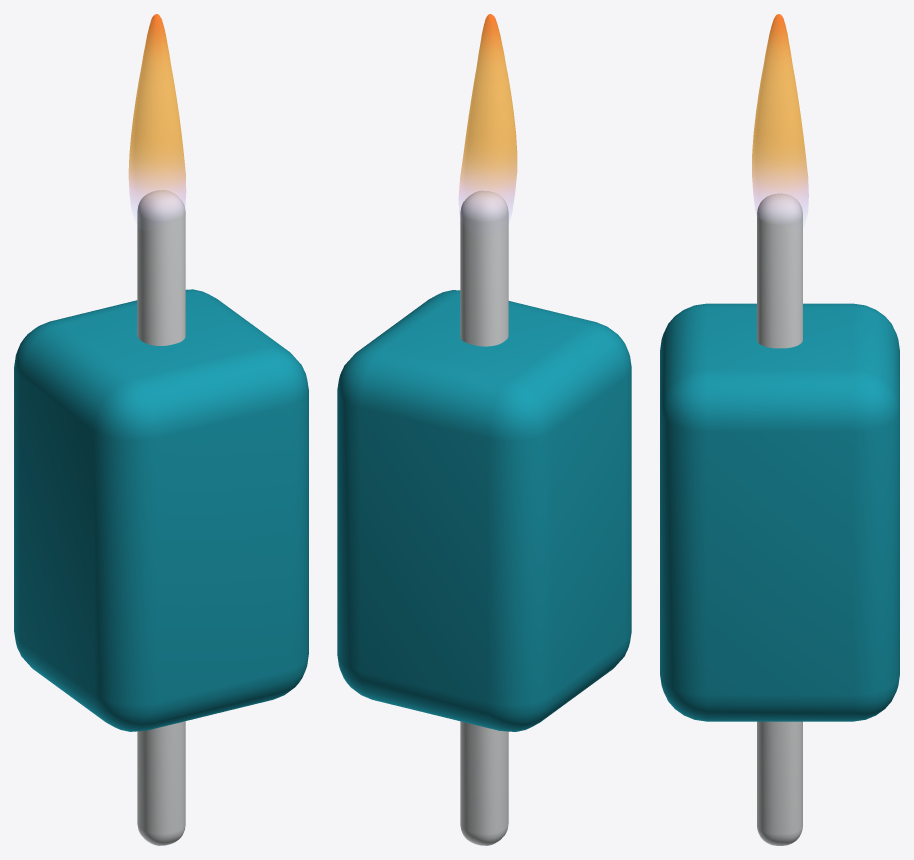
The model's file is JapaneseCandleShort.glb.
3 renders of one model, left to right at view 1: azimuth 30°, elevation 25°; view 2: azimuth 150°, elevation 25°; view 3: azimuth 270°, elevation 25°, orthographic.
Visible parts, largest first — view 1: XBase, XRope01, Flame.002; view 2: XBase, XRope01, Flame.002; view 3: XBase, XRope01, Flame.002.
Boxes of the visible parts, x1,y1,x2,y2 form: XBase: (14, 289, 308, 731); XRope01: (137, 190, 185, 845); Flame.002: (128, 14, 186, 217); XBase: (337, 290, 631, 731); XRope01: (460, 190, 508, 845); Flame.002: (459, 14, 517, 219); XBase: (660, 303, 899, 721); XRope01: (757, 193, 802, 845); Flame.002: (752, 14, 808, 219).
Bounding box in the file's own units: 0.3914 × 1.49 × 0.3914.
3 materials, 1 textured.
